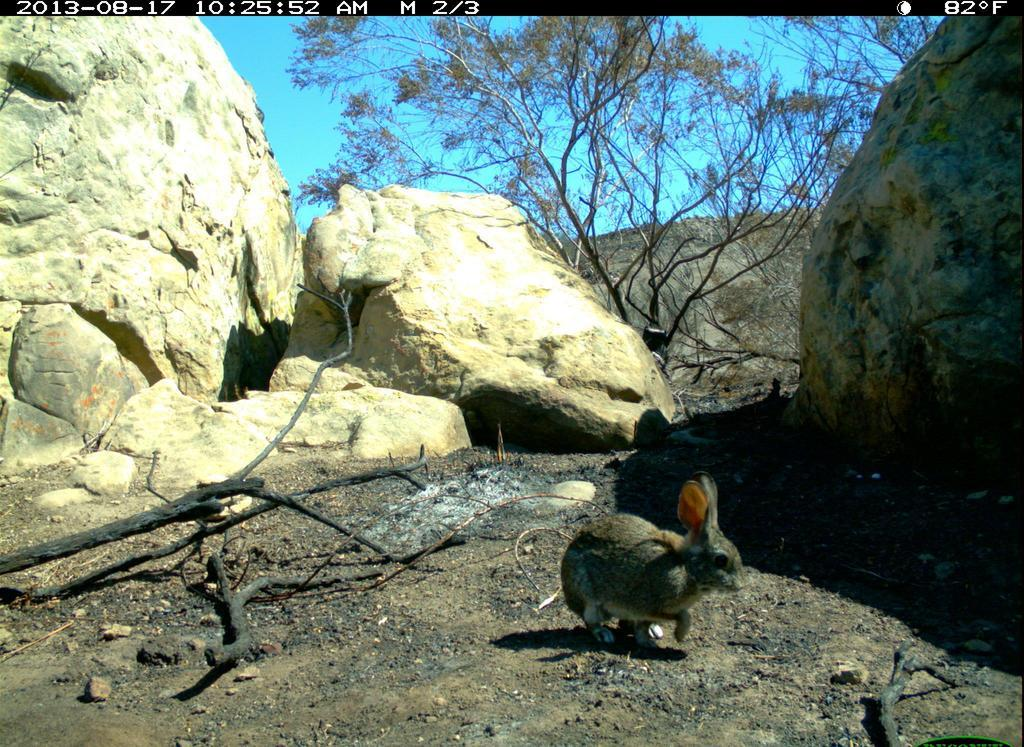rabbit: (547, 457, 756, 668)
